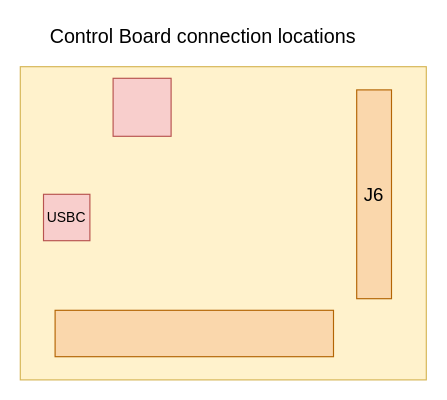
This 447x400 diagram has some shape labels left out. Each missing label, with the centre of its shape:
"5V 0V" goes at (x=141, y=106).
"J3" goes at (x=194, y=333).
